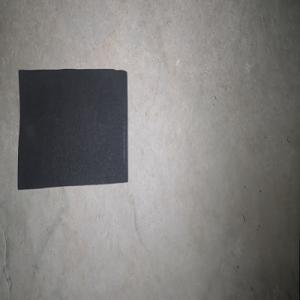PaintChip: (17, 68, 128, 190)
